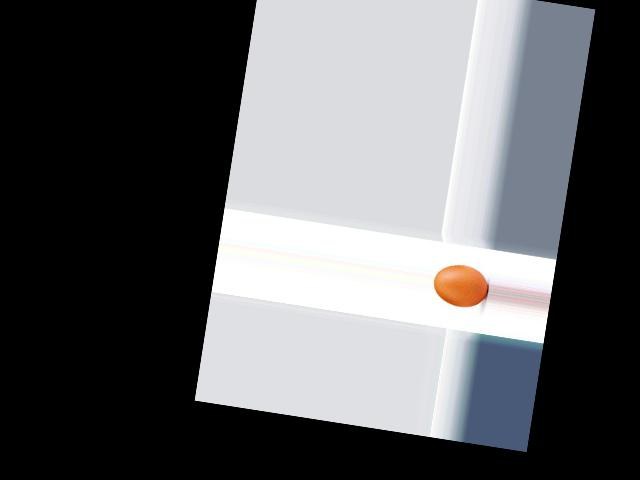egg: (431, 261, 490, 310)
